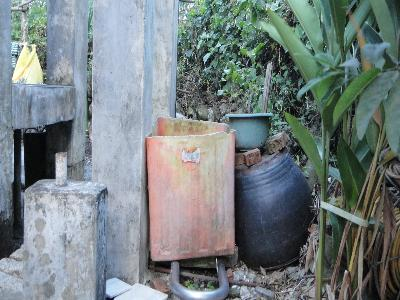bowl: (235, 153, 316, 271), (227, 113, 276, 151)
bucket: (142, 114, 236, 264)
